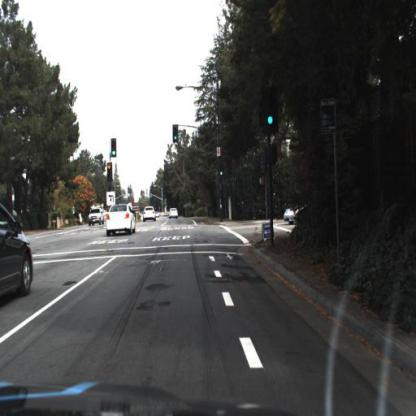car: (103, 199, 136, 240), (280, 196, 312, 230), (86, 201, 104, 228), (139, 203, 158, 224), (166, 202, 181, 223)
trafficLight-Green: (263, 92, 277, 128), (263, 111, 274, 134), (109, 138, 117, 163), (171, 122, 179, 145), (109, 144, 118, 161), (171, 127, 178, 148), (218, 160, 225, 178), (218, 166, 224, 184)
trafficLight-RedLeft: (104, 159, 115, 180), (105, 162, 113, 182)
